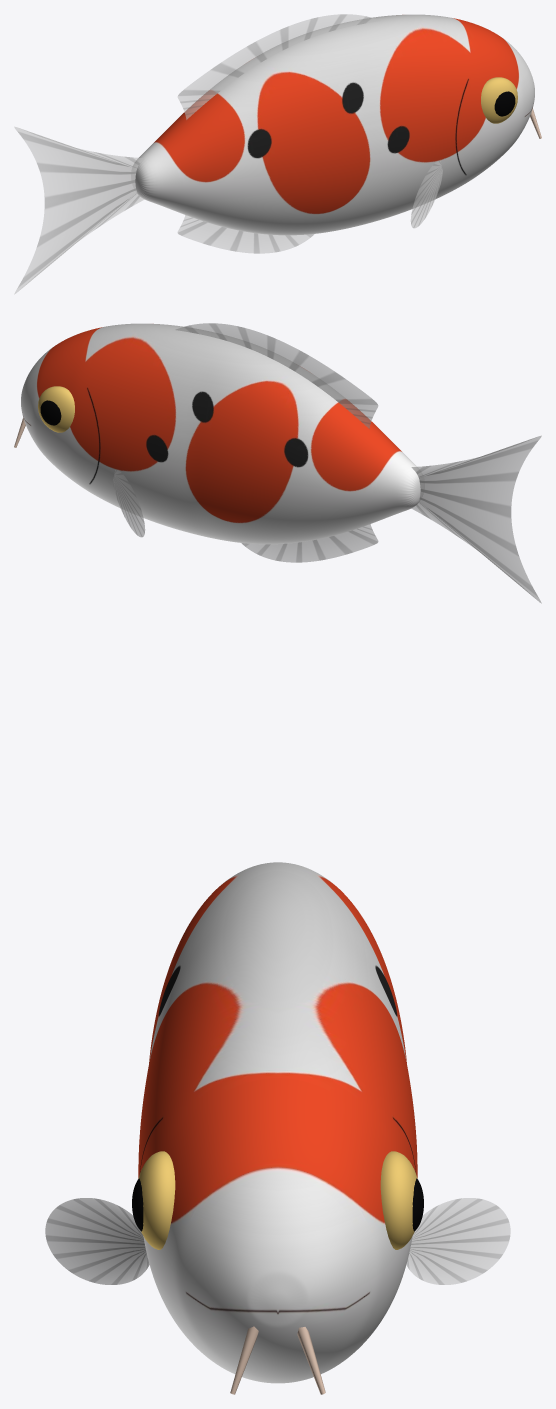
File: koi.glb
3 views of the same model, one above another, from view 1: azimuth 30°, elevation 25°; view 2: azimuth 150°, elevation 25°; view 3: azimuth 270°, elevation 25° (orthographic). The views are drawn at different scales.
Visible parts, largest first — view 1: body, tail, dorsal, anal, pec-1, Sphere, Sphere.001; view 2: body, tail, dorsal, anal, pec1, Sphere.002, Sphere.003; view 3: body, pec-1, pec1, Sphere, Sphere.002.
Part boxes in pixels (bbox=[...]): body: bbox=[133, 14, 534, 235]; tail: bbox=[14, 126, 144, 294]; dorsal: bbox=[177, 14, 380, 119]; anal: bbox=[177, 215, 314, 253]; pec-1: bbox=[410, 160, 442, 228]; Sphere: bbox=[481, 77, 517, 123]; Sphere.001: bbox=[494, 91, 515, 116]; body: bbox=[21, 323, 422, 544]; tail: bbox=[411, 435, 541, 603]; dorsal: bbox=[175, 323, 378, 428]; anal: bbox=[241, 524, 378, 562]; pec1: bbox=[113, 469, 145, 537]; Sphere.002: bbox=[38, 386, 74, 432]; Sphere.003: bbox=[40, 400, 61, 425]; body: bbox=[138, 862, 417, 1383]; pec-1: bbox=[45, 1198, 149, 1284]; pec1: bbox=[406, 1198, 510, 1284]; Sphere: bbox=[138, 1151, 175, 1249]; Sphere.002: bbox=[380, 1151, 417, 1249].
Size of the model in its own units: 1.32 by 0.5485 by 0.5135.
Materials: 6 (3 with a texture image).
